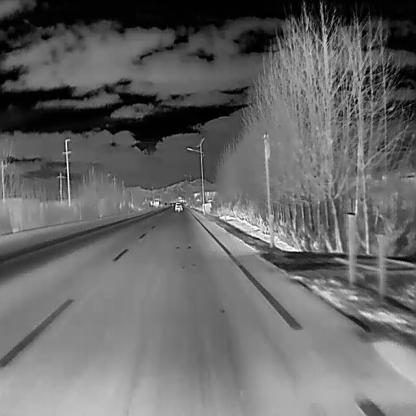car: (174, 202, 182, 211)
